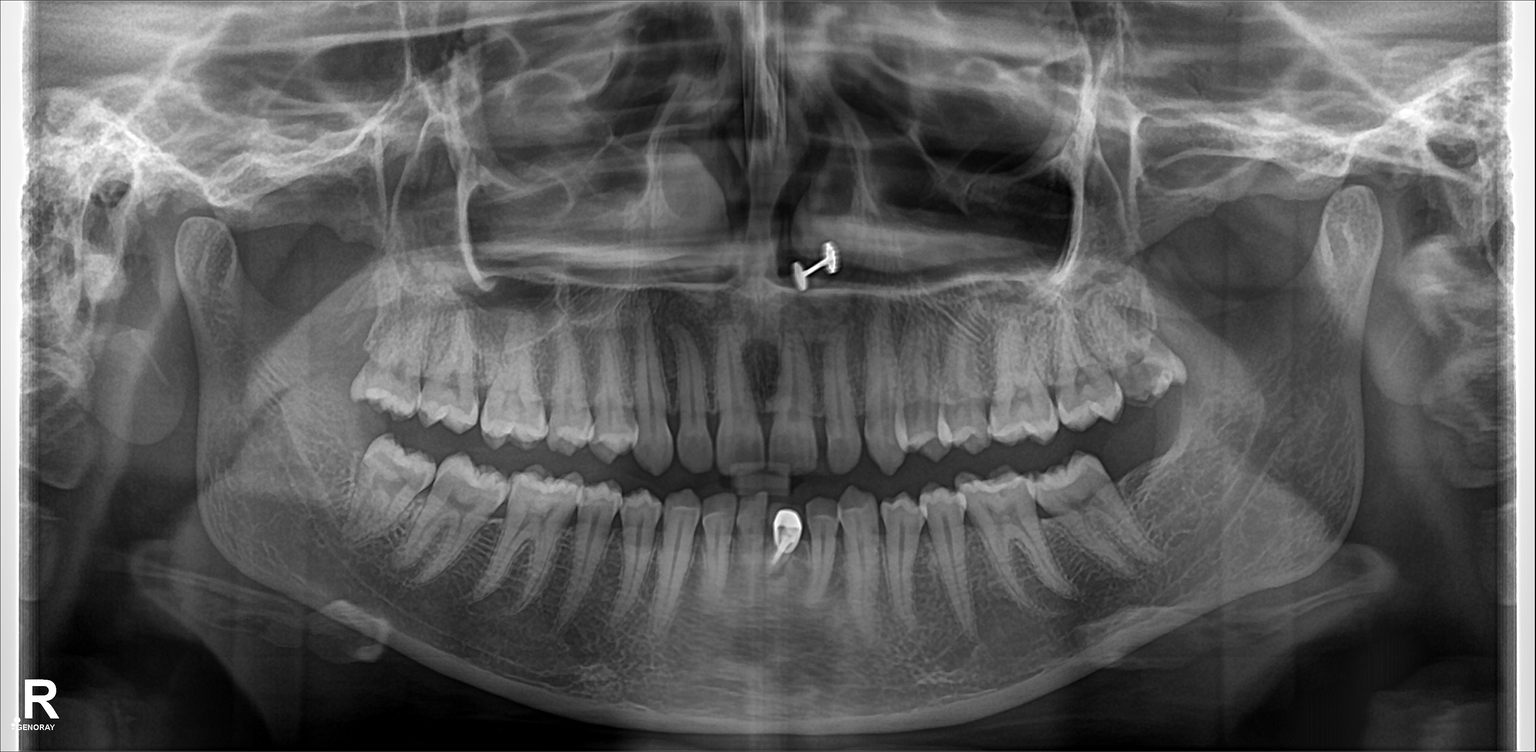Dental Caries: (1114, 352, 1159, 395)
Endodontically Treated Tooth: (773, 503, 803, 602)
Missing Tooth: (1115, 449, 1177, 521)
